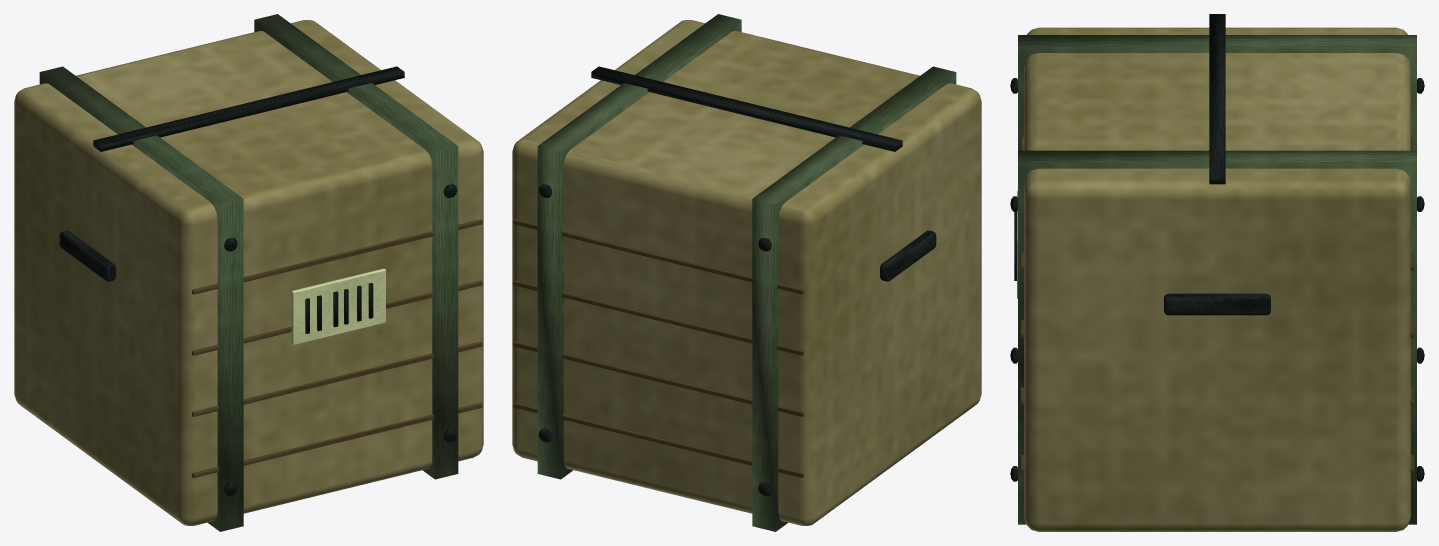
The model's file is crate.glb.
The picture shows the model from 3 angles, left to right: view 1: azimuth 30°, elevation 25°; view 2: azimuth 150°, elevation 25°; view 3: azimuth 270°, elevation 25°; orthographic projection. The views are drawn at different scales.
Visible parts, largest first — view 1: Crate, Strap.001, Strap, Shipping label, Top seam, Plank joint.002, Plank joint.006, Plank joint, Carry handle, Plank joint.004; view 2: Crate, Strap.001, Strap, Top seam, Plank joint.005, Plank joint.003, Plank joint.007, Plank joint.001, Carry handle; view 3: Crate, Strap.001, Strap, Top seam, Carry handle.001.
Boxes of the visible parts, bbox=[...] form: Crate: bbox=[14, 20, 483, 525]; Strap.001: bbox=[254, 14, 458, 479]; Strap: bbox=[39, 66, 243, 531]; Shipping label: bbox=[291, 268, 385, 345]; Top seam: bbox=[93, 66, 404, 151]; Plank joint.002: bbox=[192, 341, 482, 416]; Plank joint.006: bbox=[192, 219, 482, 294]; Plank joint: bbox=[192, 402, 482, 477]; Carry handle: bbox=[59, 230, 115, 281]; Plank joint.004: bbox=[192, 280, 482, 355]; Crate: bbox=[512, 20, 981, 525]; Strap.001: bbox=[537, 14, 741, 479]; Strap: bbox=[752, 66, 956, 531]; Top seam: bbox=[591, 66, 902, 151]; Plank joint.005: bbox=[513, 280, 803, 355]; Plank joint.003: bbox=[513, 341, 803, 416]; Plank joint.007: bbox=[513, 219, 803, 294]; Plank joint.001: bbox=[513, 402, 803, 477]; Carry handle: bbox=[880, 230, 936, 281]; Crate: bbox=[1024, 27, 1410, 531]; Strap.001: bbox=[1018, 150, 1416, 524]; Strap: bbox=[1018, 35, 1416, 150]; Top seam: bbox=[1209, 14, 1225, 184]; Carry handle.001: bbox=[1164, 293, 1270, 315].
Bounding box in the file's own units: 1.42 × 1.35 × 1.39.
Materials: 5 (5 with a texture image).
